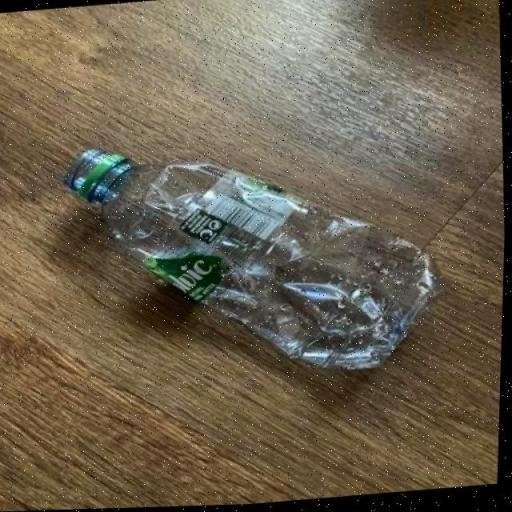plastic: (65, 151, 441, 375)
